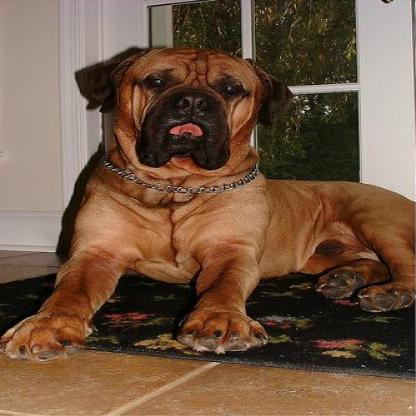bull_mastiff: (0, 45, 411, 359)
